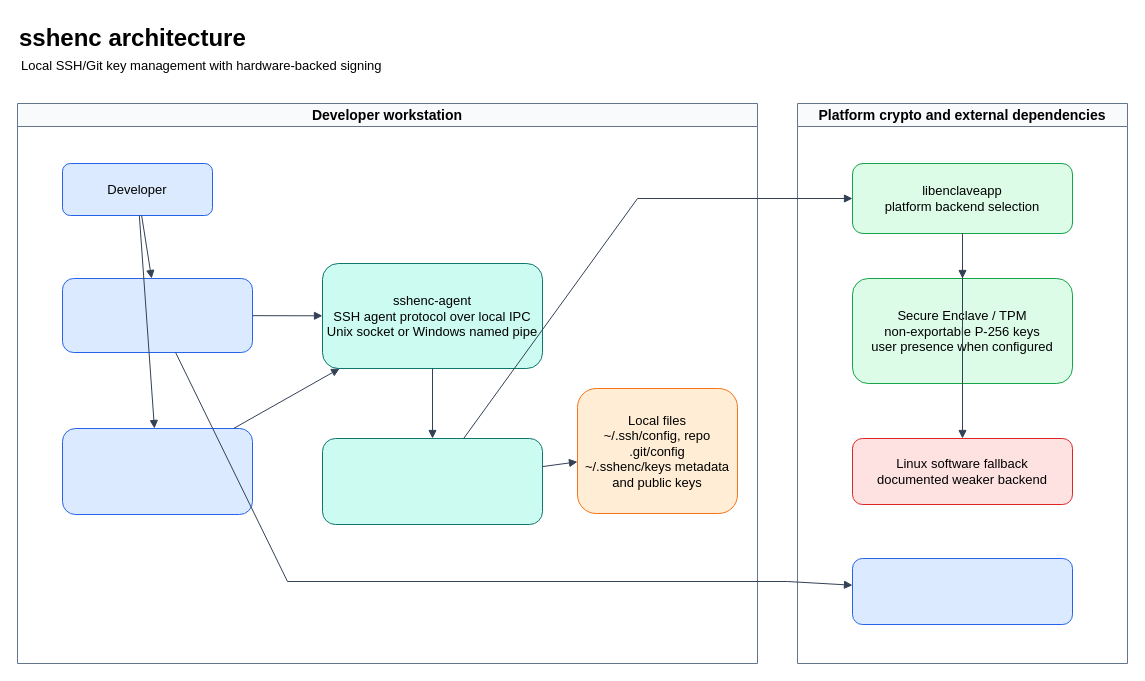
Some shapes in this 1145 by 681 pixel diagram are drawn without their labels. Each missing label, with the centre of its shape:
"SSH server / Git remote external dependency black box" goes at [962,591].
"sshenc + gitenc key management SSH wrapper commit signing config" goes at [157,471].
"sshenc-se backend policy checks, key lookup, signing dispatch" goes at [432,481].
"User tools OpenSSH / Git / scp / sftp" goes at [157,315].
